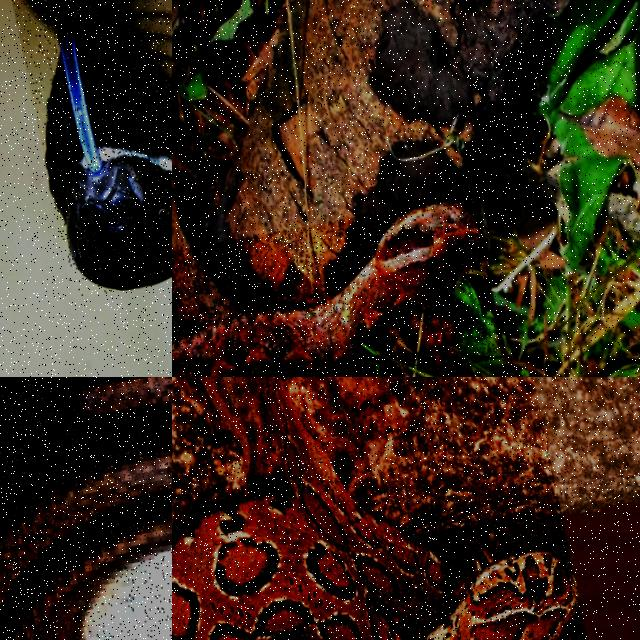Calliophis maculiceps: (0, 377, 171, 639)
Calloselasma rhodostoma: (172, 199, 481, 376)
Daboia siamensis: (172, 377, 578, 639)
Ophiophagus hannah: (28, 0, 171, 289)
snake: (172, 377, 578, 639), (172, 199, 481, 376), (0, 377, 171, 639), (28, 0, 171, 289)
